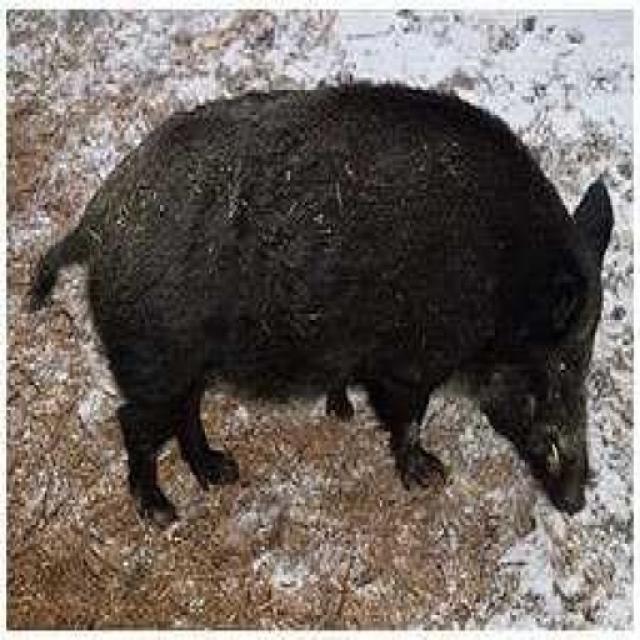pig: (1, 24, 640, 544)
